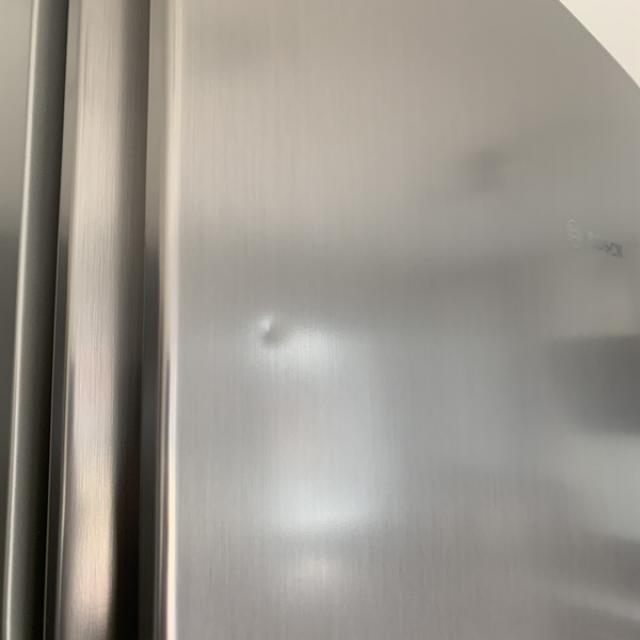dents: (244, 299, 304, 370)
